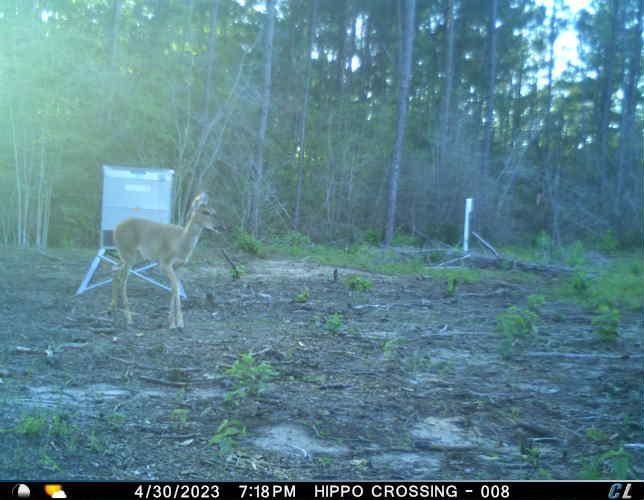Deer: (108, 191, 229, 338)
